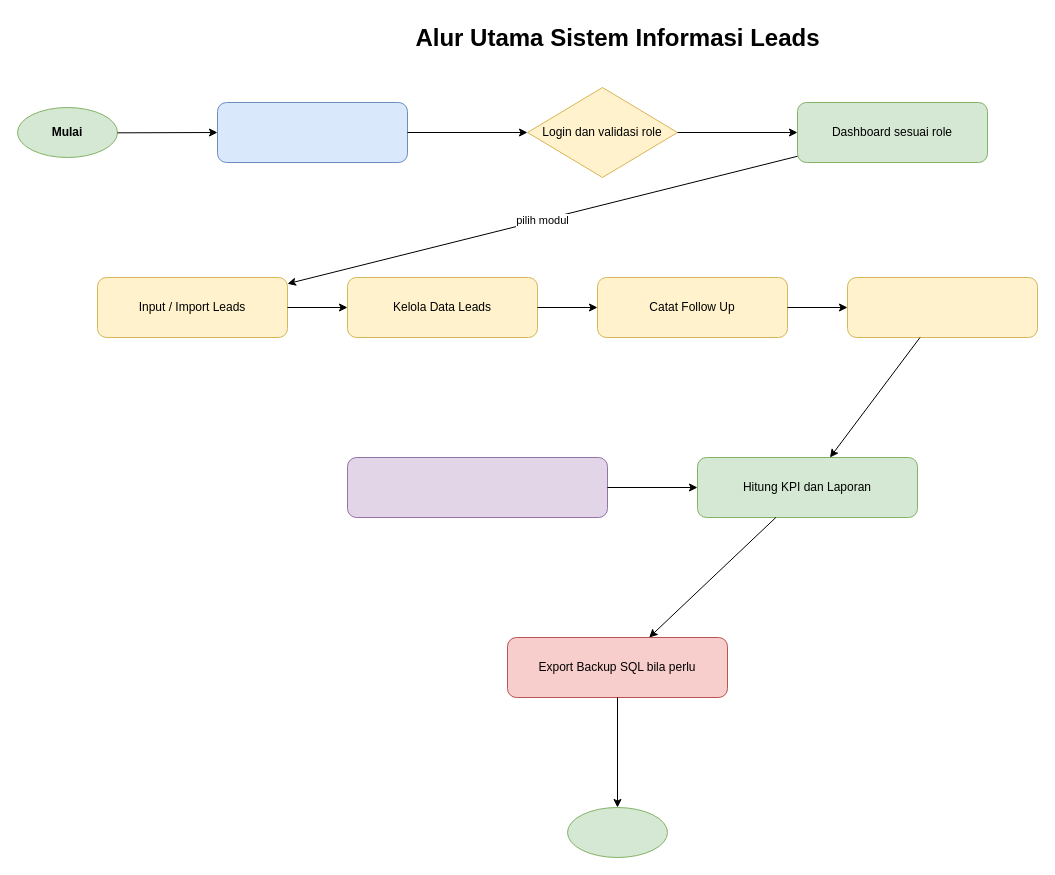
Image size: 1055x875. Some labels were removed from this diagram. Each missing label, with the centre of its shape:
"Closing / Data Siswa" goes at point (942, 307).
"Selesai" goes at point (617, 832).
"Tugas, Pembelajaran, Pengaturan" goes at point (477, 487).
"User membuka aplikasi" goes at point (312, 132).
